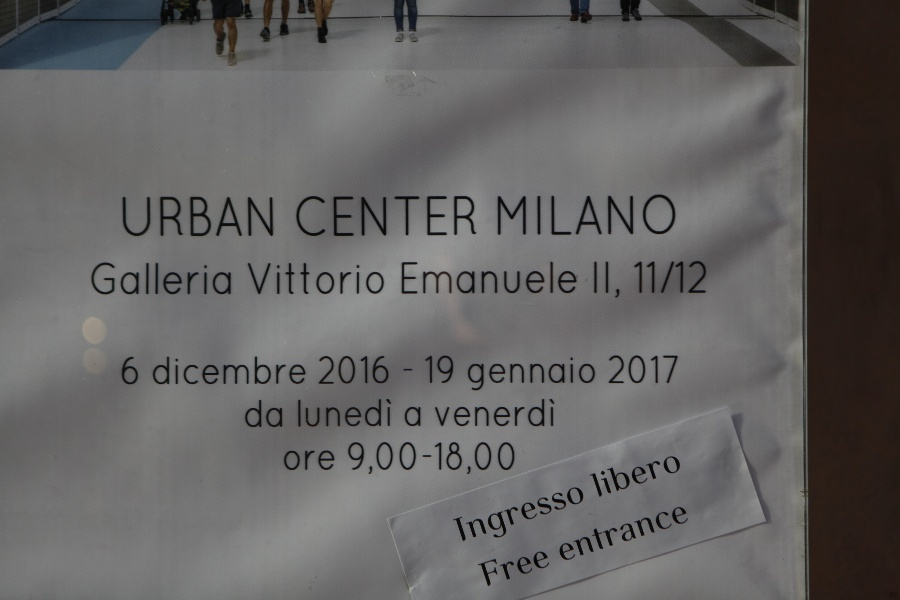text: (465, 485, 480, 554), (481, 485, 496, 554), (497, 485, 512, 554), (513, 485, 528, 554), (529, 485, 544, 554), (545, 485, 560, 554), (561, 485, 576, 554), (673, 502, 689, 565), (561, 502, 576, 565), (577, 502, 592, 565), (593, 502, 608, 565), (609, 502, 624, 565), (625, 502, 640, 565), (641, 502, 656, 565), (657, 502, 672, 565), (451, 485, 464, 554), (593, 452, 608, 499), (609, 452, 624, 499), (625, 452, 640, 499), (641, 452, 656, 499), (657, 452, 672, 499), (129, 194, 144, 238), (145, 194, 160, 238), (161, 194, 176, 238), (177, 194, 192, 238), (193, 194, 208, 238), (209, 194, 224, 238), (225, 194, 240, 238), (241, 194, 256, 238), (257, 194, 272, 238), (305, 195, 320, 238), (321, 195, 336, 238), (337, 195, 352, 238), (353, 195, 368, 238), (369, 195, 384, 238), (385, 195, 400, 238), (401, 195, 416, 238), (417, 195, 432, 238), (433, 195, 448, 238), (449, 195, 464, 238), (497, 194, 512, 236), (513, 194, 528, 236), (529, 194, 544, 236), (545, 194, 560, 236), (561, 194, 576, 236), (577, 194, 592, 236), (593, 194, 608, 236), (609, 194, 624, 236), (625, 194, 640, 236), (641, 194, 656, 236), (657, 194, 672, 236), (577, 485, 586, 554), (481, 549, 496, 588), (497, 549, 512, 588), (513, 549, 528, 588), (529, 549, 544, 588), (593, 261, 608, 298), (609, 261, 624, 298), (97, 260, 112, 296), (113, 260, 128, 296), (129, 260, 144, 296), (145, 260, 160, 296), (161, 260, 176, 296), (177, 260, 192, 296), (193, 260, 208, 296), (209, 260, 224, 296), (465, 356, 480, 392), (481, 356, 496, 392), (497, 356, 512, 392), (513, 356, 528, 392), (529, 356, 544, 392), (545, 356, 560, 392), (561, 356, 576, 392), (577, 356, 592, 392), (353, 439, 368, 475), (369, 439, 384, 475), (385, 439, 400, 475), (401, 439, 416, 475), (417, 439, 432, 475), (433, 439, 448, 475), (449, 439, 464, 475), (465, 439, 480, 475), (481, 439, 496, 475), (497, 439, 512, 475), (401, 261, 416, 296), (417, 261, 432, 296), (433, 261, 448, 296), (449, 261, 464, 296), (465, 261, 480, 296), (481, 261, 496, 296), (497, 261, 512, 296), (513, 261, 528, 296), (529, 261, 544, 296), (545, 261, 560, 296), (561, 261, 576, 296), (465, 195, 477, 238), (257, 262, 272, 296), (273, 262, 288, 296), (289, 262, 304, 296), (305, 262, 320, 296), (321, 262, 336, 296), (337, 262, 352, 296), (353, 262, 368, 296), (369, 262, 384, 296), (641, 260, 656, 294), (657, 260, 672, 294), (673, 260, 688, 294), (689, 260, 704, 294), (673, 452, 683, 499), (321, 354, 336, 385), (337, 354, 352, 385), (353, 354, 368, 385), (369, 354, 384, 385), (161, 356, 176, 386), (177, 356, 192, 386), (193, 356, 208, 386), (209, 356, 224, 386), (225, 356, 240, 386), (241, 356, 256, 386), (257, 356, 272, 386), (273, 356, 288, 386), (289, 356, 304, 386), (433, 354, 448, 384), (609, 355, 624, 385), (625, 355, 640, 385), (641, 355, 656, 385), (657, 355, 672, 385), (257, 399, 272, 429), (305, 398, 320, 428), (321, 398, 336, 428), (337, 398, 352, 428), (353, 398, 368, 428), (369, 398, 384, 428), (449, 398, 464, 427), (465, 398, 480, 427), (481, 398, 496, 427), (497, 398, 512, 427), (513, 398, 528, 427), (529, 398, 544, 427), (434, 398, 448, 427), (296, 195, 304, 238), (246, 262, 256, 296), (245, 399, 256, 429), (273, 399, 284, 429), (129, 356, 140, 385), (289, 450, 304, 471), (305, 450, 320, 471), (121, 194, 128, 238), (321, 450, 335, 471), (545, 398, 555, 427), (225, 260, 233, 296), (424, 354, 432, 384), (633, 260, 640, 294), (545, 549, 551, 588), (405, 406, 416, 427), (153, 356, 160, 386), (673, 355, 680, 385), (385, 398, 392, 428), (298, 398, 304, 428), (122, 356, 128, 385), (673, 194, 677, 236), (476, 549, 480, 588), (449, 354, 454, 384), (92, 260, 96, 296), (589, 452, 592, 499), (558, 502, 560, 565), (385, 354, 389, 385), (593, 356, 596, 392), (349, 439, 352, 475), (513, 439, 516, 475), (417, 406, 422, 427), (284, 450, 288, 471), (705, 260, 707, 294), (403, 368, 416, 372), (273, 194, 274, 238), (577, 261, 578, 296), (385, 262, 386, 296), (319, 354, 320, 385), (305, 356, 306, 386)
